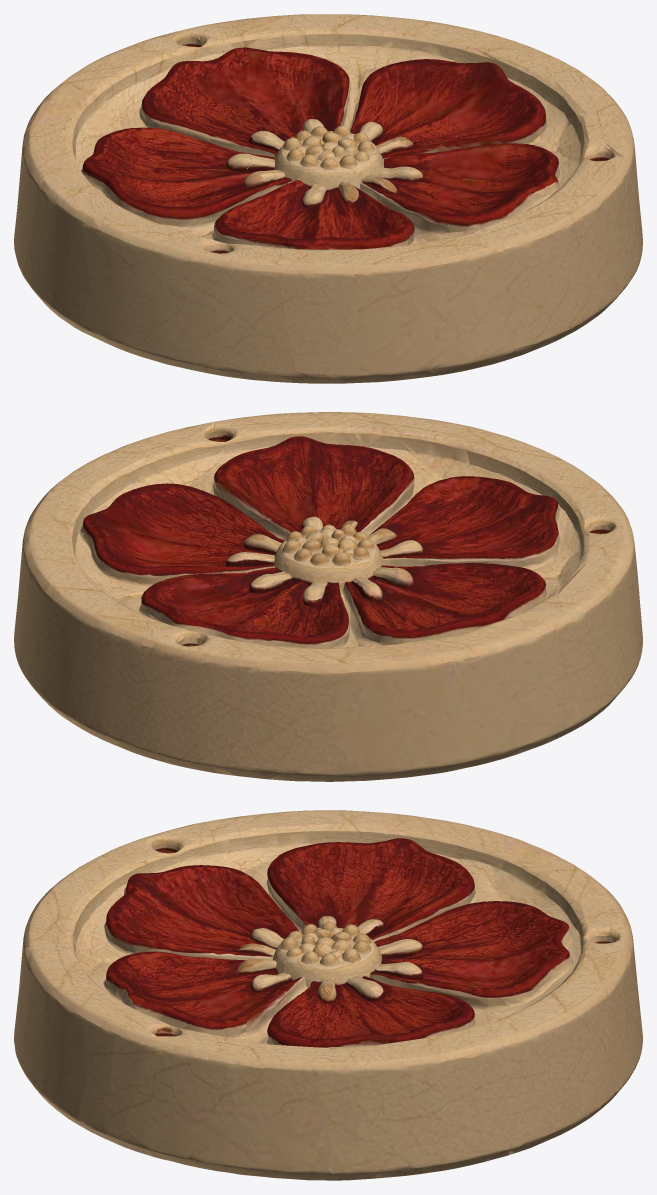
3 views of the same model, one above another, from view 1: azimuth 30°, elevation 25°; view 2: azimuth 150°, elevation 25°; view 3: azimuth 270°, elevation 25° (orthographic).
Visible parts, largest first — view 1: Mesh_0; view 2: Mesh_0; view 3: Mesh_0.
Boxes of the visible parts, left/top/right/bottom form: Mesh_0: left=14, top=14, right=642, bottom=383; Mesh_0: left=14, top=412, right=642, bottom=781; Mesh_0: left=14, top=810, right=642, bottom=1180.
Bounding box in the file's own units: 1.9 × 0.3884 × 1.9.
Materials: 1 (1 with a texture image).
